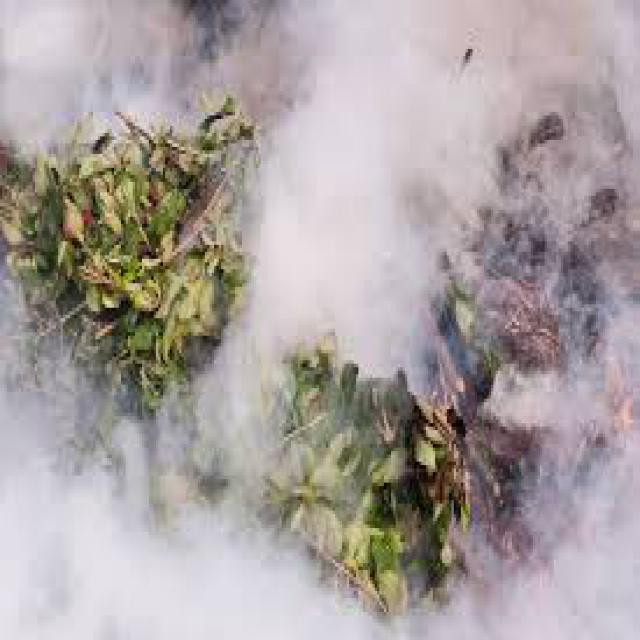smoke: (2, 437, 375, 637), (251, 3, 426, 350)
